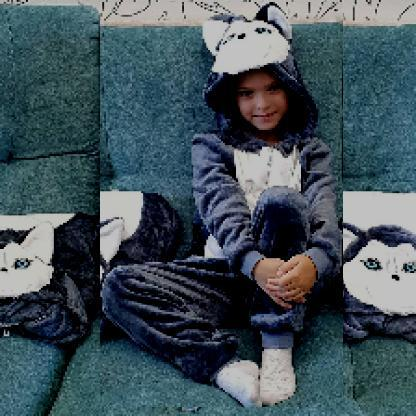child: (101, 3, 346, 409)
